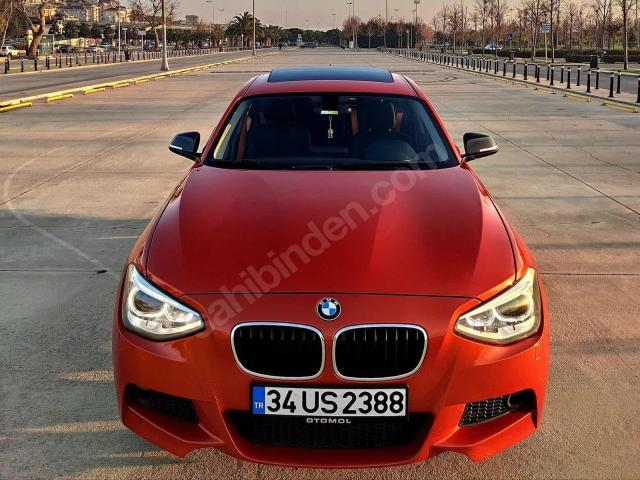plaka: (252, 386, 407, 418)
